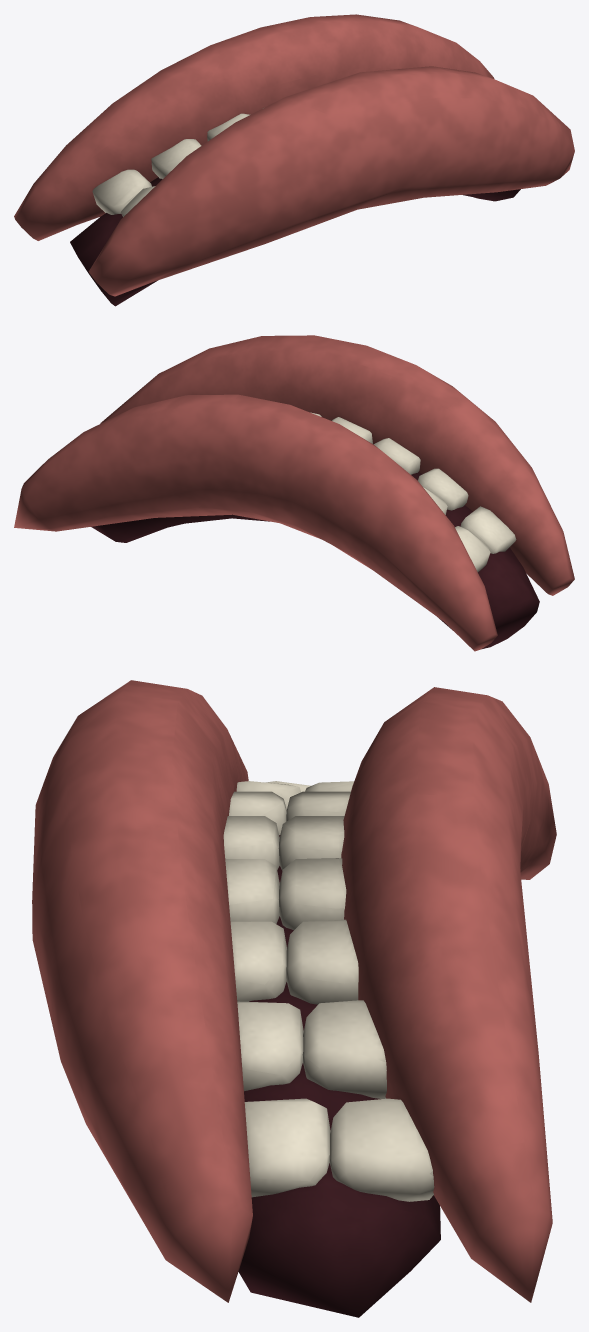
The model's file is cpart_mouth_grin.glb.
3 renders of one model, top to bottom at view 1: azimuth 30°, elevation 25°; view 2: azimuth 150°, elevation 25°; view 3: azimuth 270°, elevation 25°, orthographic. The views are drawn at different scales.
Visible parts, largest first — view 1: Lower, MouthGrin; view 2: MouthGrin, Lower; view 3: MouthGrin, Lower.
Part boxes in pixels (x1,y1,x2,y2): Lower: [88, 66, 574, 296]; MouthGrin: [14, 14, 520, 306]; MouthGrin: [14, 394, 539, 651]; Lower: [100, 335, 574, 595]; MouthGrin: [238, 687, 556, 1317]; Lower: [32, 680, 330, 1302].
Size of the model in its own units: 0.1535 by 0.0653 by 0.0728.
Materials: 3 (3 with a texture image).
